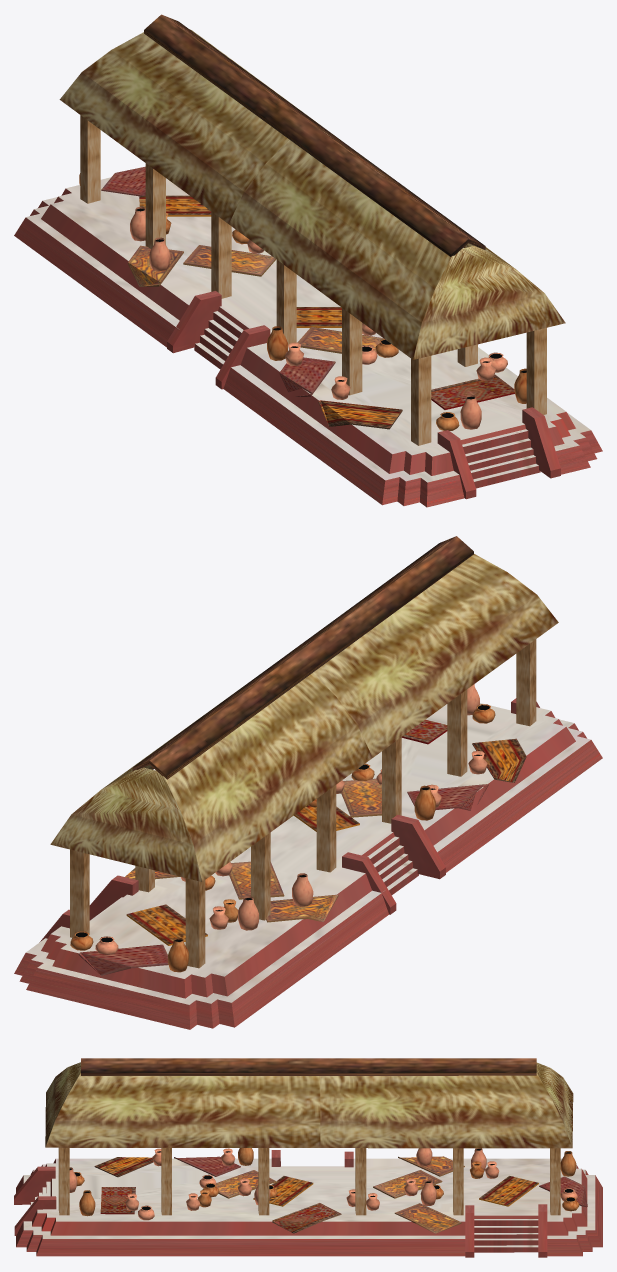
Rendered from cobertura_1.dae.
3 views of the same model, one above another, from view 1: azimuth 30°, elevation 25°; view 2: azimuth 150°, elevation 25°; view 3: azimuth 270°, elevation 25° (orthographic). The views are drawn at different scales.
Parts seen in each view (by area): view 1: cobertura_1; view 2: cobertura_1; view 3: cobertura_1.
Boxes of the visible parts, left/top/right/bottom form: cobertura_1: left=14, top=14, right=602, bottom=507; cobertura_1: left=14, top=536, right=602, bottom=1029; cobertura_1: left=14, top=1058, right=602, bottom=1257.
Bounding box in the file's own units: 10.27 × 31.27 × 9.5.
Materials: 1 (1 with a texture image).
